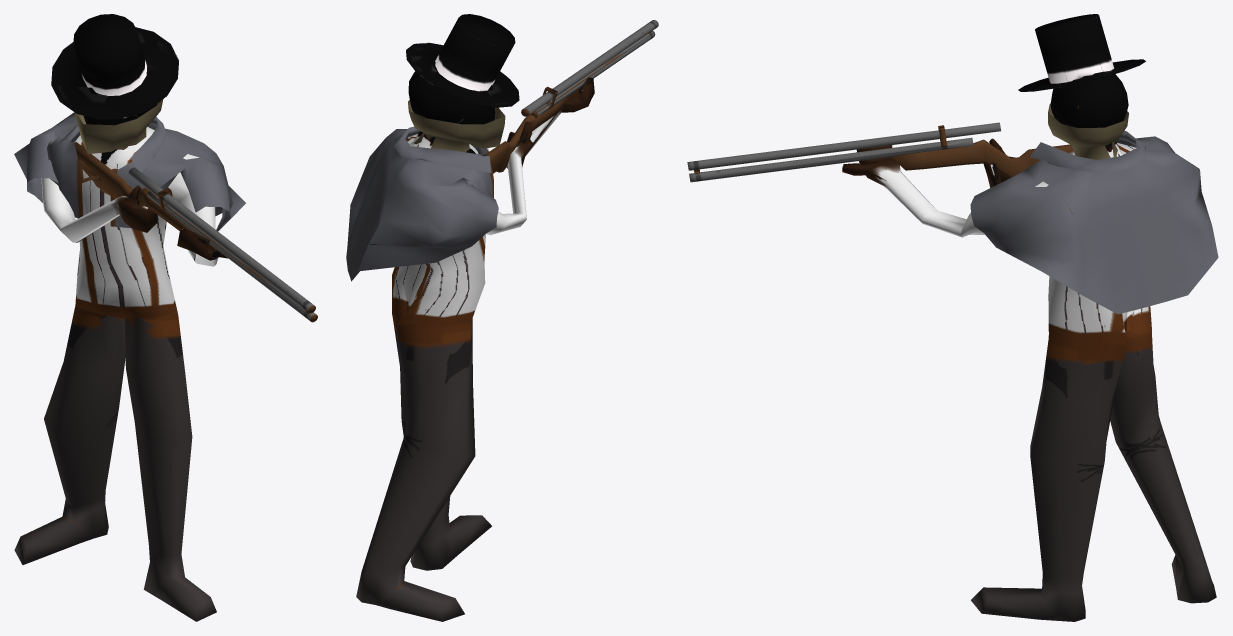
The model's file is Nod_8.obj.
The picture shows the model from 3 angles, left to right: view 1: azimuth 30°, elevation 25°; view 2: azimuth 150°, elevation 25°; view 3: azimuth 270°, elevation 25°; orthographic projection. The views are drawn at different scales.
Parts seen in each view (by area): view 1: Body_Cube.007, Hat_Cylinder.001, Cloak_Cube.006, Rifle_Cube_Cube_Wood, Scarf_Cube.008; view 2: Body_Cube.007, Cloak_Cube.006, Hat_Cylinder.001, Rifle_Cube_Cube_Wood, Scarf_Cube.008; view 3: Body_Cube.007, Cloak_Cube.006, Rifle_Cube_Cube_Wood, Hat_Cylinder.001, Scarf_Cube.008.
Boxes of the visible parts, x1,y1,x2,y2 form: Body_Cube.007: (14, 87, 227, 621); Hat_Cylinder.001: (51, 14, 178, 119); Cloak_Cube.006: (14, 112, 245, 231); Rifle_Cube_Cube_Wood: (74, 142, 317, 322); Scarf_Cube.008: (74, 99, 163, 154); Body_Cube.007: (356, 59, 594, 621); Cloak_Cube.006: (346, 126, 498, 281); Hat_Cylinder.001: (406, 14, 519, 107); Rifle_Cube_Cube_Wood: (484, 20, 658, 173); Scarf_Cube.008: (408, 100, 505, 152); Body_Cube.007: (842, 71, 1216, 621); Cloak_Cube.006: (970, 130, 1218, 314); Rifle_Cube_Cube_Wood: (687, 122, 1073, 182); Hat_Cylinder.001: (1018, 14, 1145, 91); Scarf_Cube.008: (1048, 103, 1128, 159).
Bounding box in the file's own units: 1.87 × 5.77 × 4.83.
